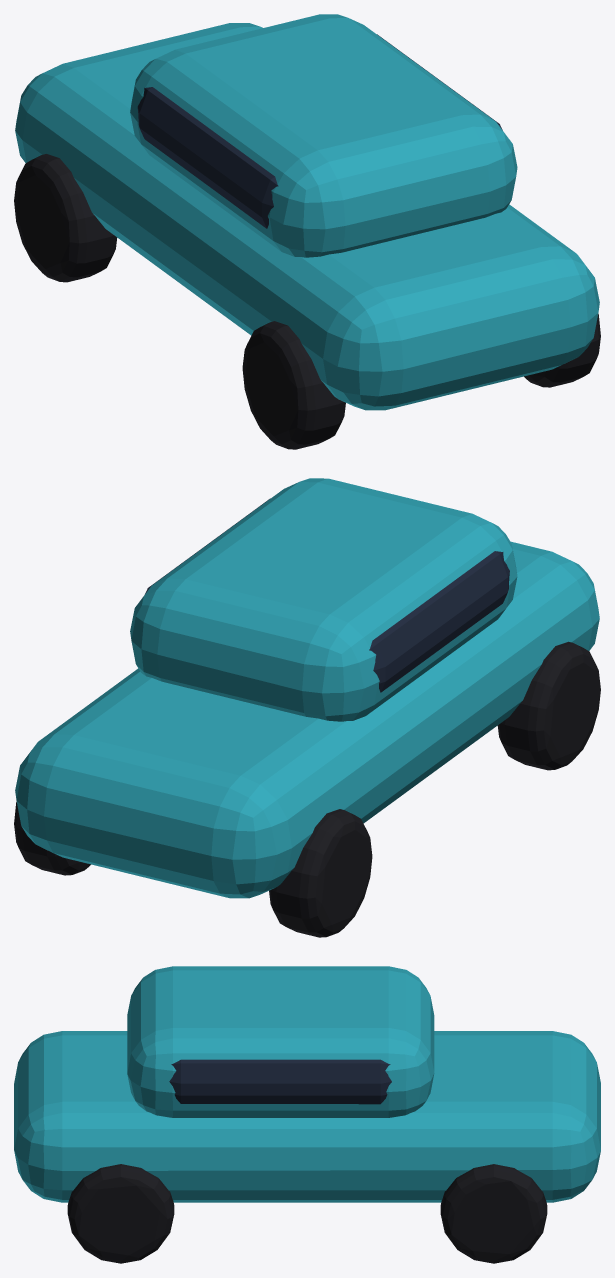
The model's file is city_car.glb.
3 views of the same model, one above another, from view 1: azimuth 30°, elevation 25°; view 2: azimuth 150°, elevation 25°; view 3: azimuth 270°, elevation 25° (orthographic). The views are drawn at different scales.
Visible parts, largest first — view 1: city_car; view 2: city_car; view 3: city_car.
Part boxes in pixels (x1,y1,x2,y2): city_car: [14, 14, 600, 449]; city_car: [14, 478, 600, 937]; city_car: [14, 966, 600, 1263].
Size of the model in its own units: 2.16 by 1.73 by 4.41.
